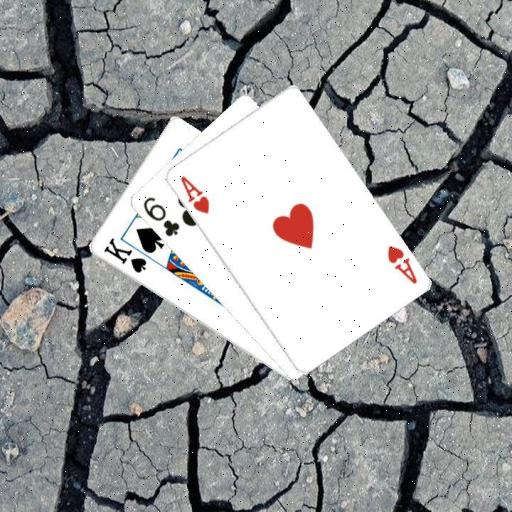6C: (140, 194, 181, 239)
AH: (383, 242, 419, 286), (177, 173, 211, 215)
KS: (100, 235, 148, 275)
